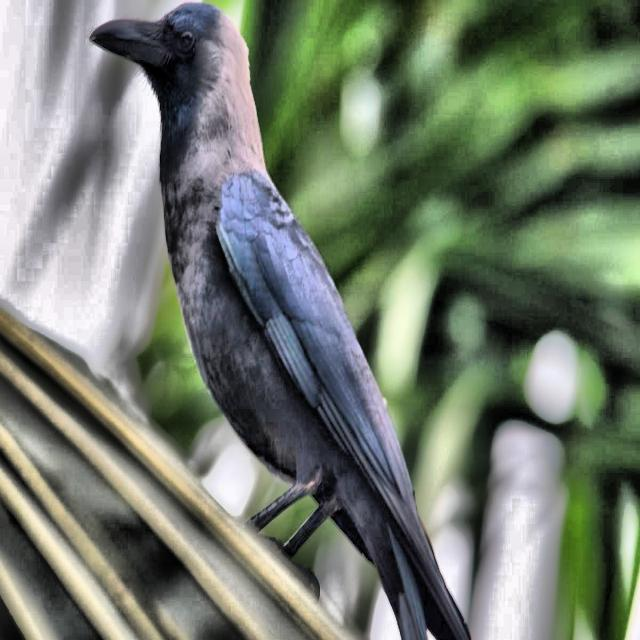crow: (82, 0, 516, 640)
